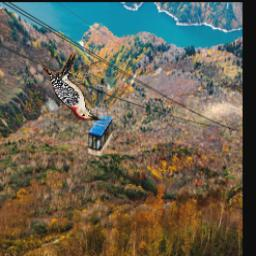Woodpecker: (44, 52, 102, 120)
